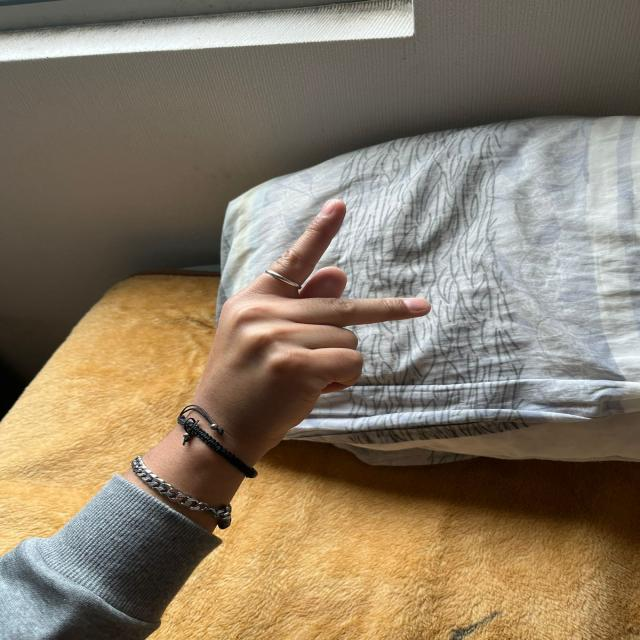K: (207, 195, 436, 444)
